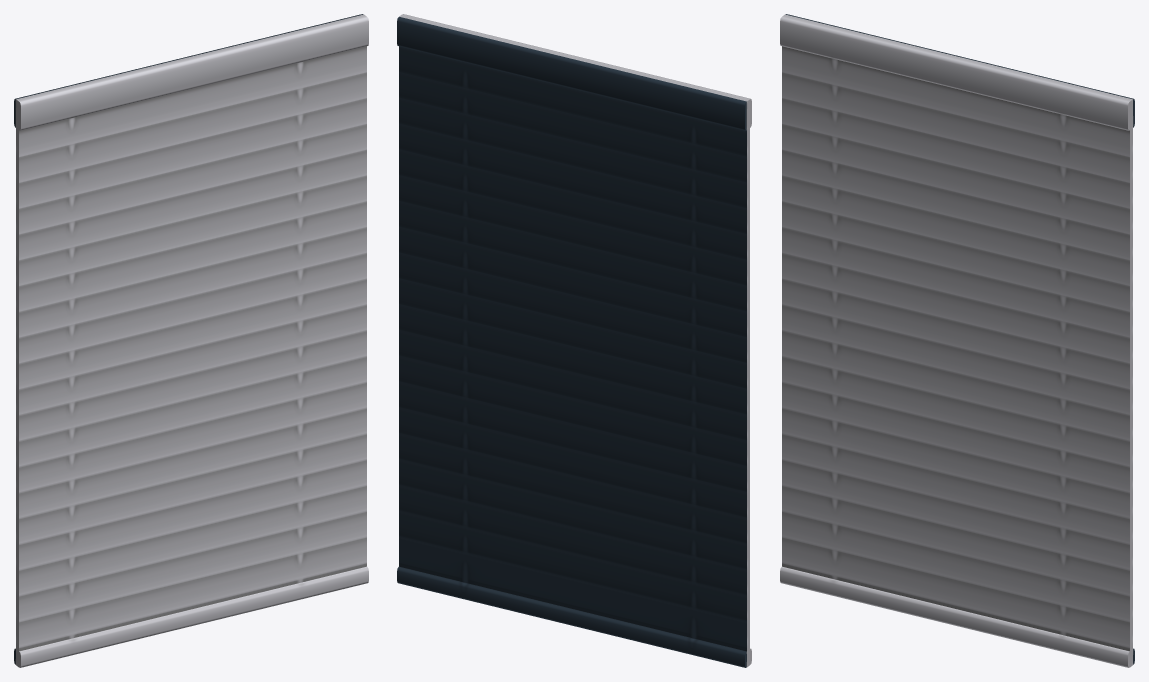
The model's file is PropBlinds01Door03_1.FBX.
3 views of the same model, side by side, from view 1: azimuth 30°, elevation 25°; view 2: azimuth 150°, elevation 25°; view 3: azimuth 330°, elevation 25° (orthographic).
Visible parts, largest first — view 1: PropBlinds01Door03_1; view 2: PropBlinds01Door03_1; view 3: PropBlinds01Door03_1.
Boxes of the visible parts, bbox=[...] form: PropBlinds01Door03_1: bbox=[14, 14, 368, 667]; PropBlinds01Door03_1: bbox=[397, 14, 751, 667]; PropBlinds01Door03_1: bbox=[780, 14, 1134, 667].
Size of what is drawn, in the model's own units: 1.17 by 1.82 by 0.04.
